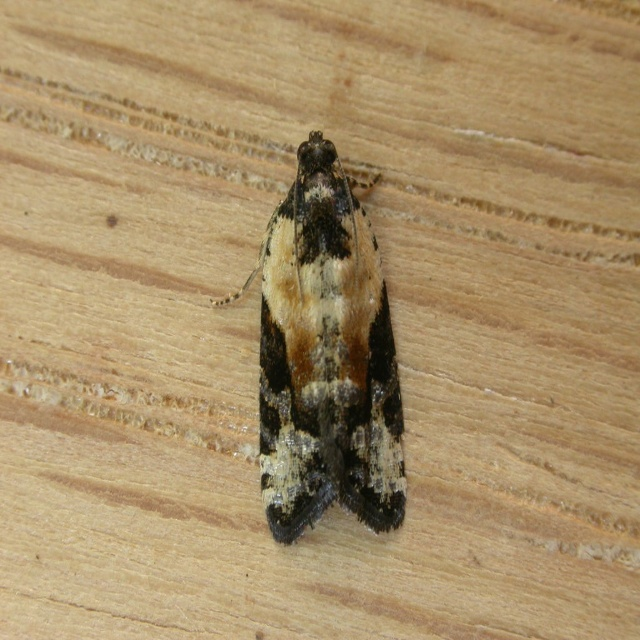Moths and butterflies: (209, 131, 408, 547)
